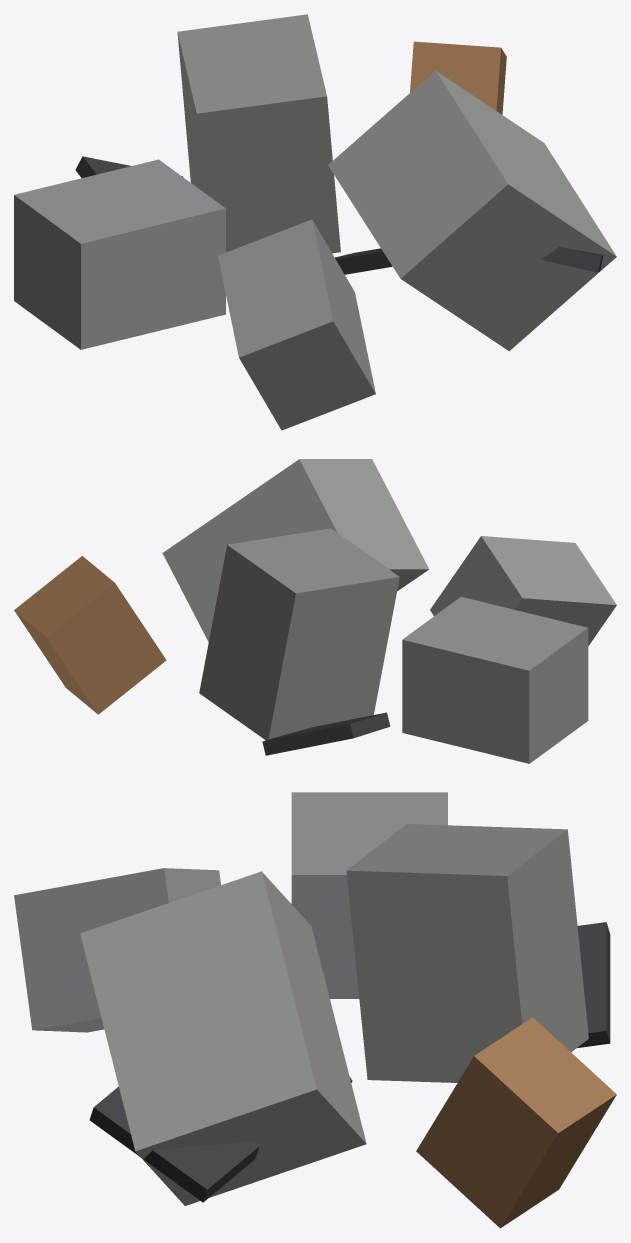
The model's file is prop_gareki.glb.
3 views of the same model, one above another, from view 1: azimuth 30°, elevation 25°; view 2: azimuth 150°, elevation 25°; view 3: azimuth 270°, elevation 25° (orthographic). The views are drawn at different scales.
Parts seen in each view (by area): view 1: gareki; view 2: gareki; view 3: gareki.
Part boxes in pixels (left/top/right/bottom): gareki: left=14, top=14, right=616, bottom=430; gareki: left=14, top=459, right=616, bottom=763; gareki: left=14, top=792, right=616, bottom=1228.
Size of the model in its own units: 1.49 by 0.7037 by 1.23.
